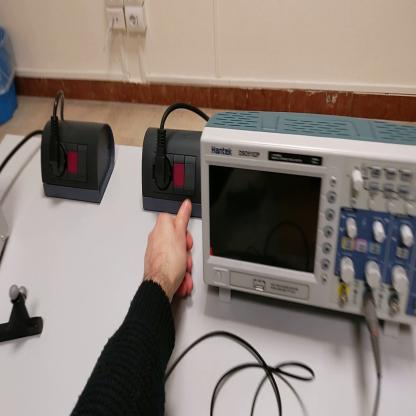hand: (144, 200, 196, 301)
oscilloscope: (203, 109, 416, 326)
socket: (42, 114, 117, 214), (142, 126, 204, 220)
